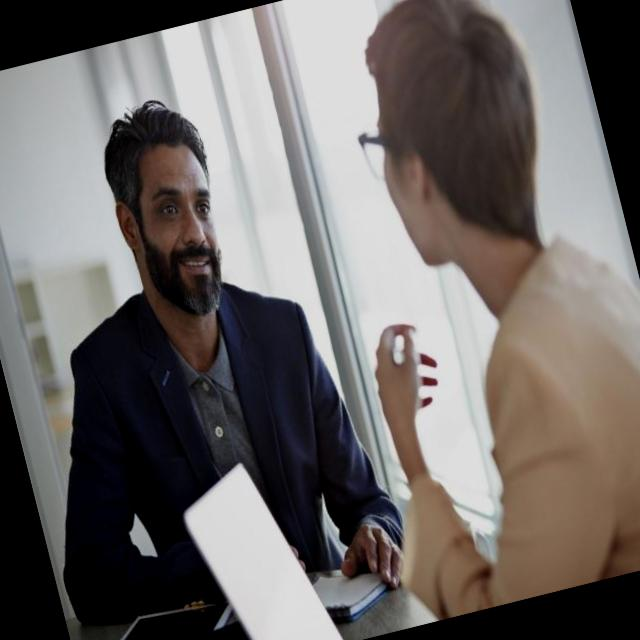person: (0, 63, 419, 640), (262, 0, 640, 625)
